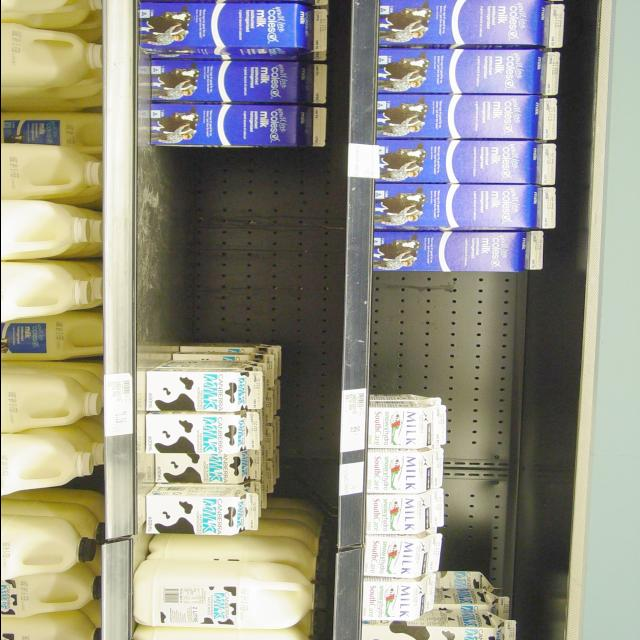empty_space: (136, 153, 320, 345), (368, 274, 568, 395)
